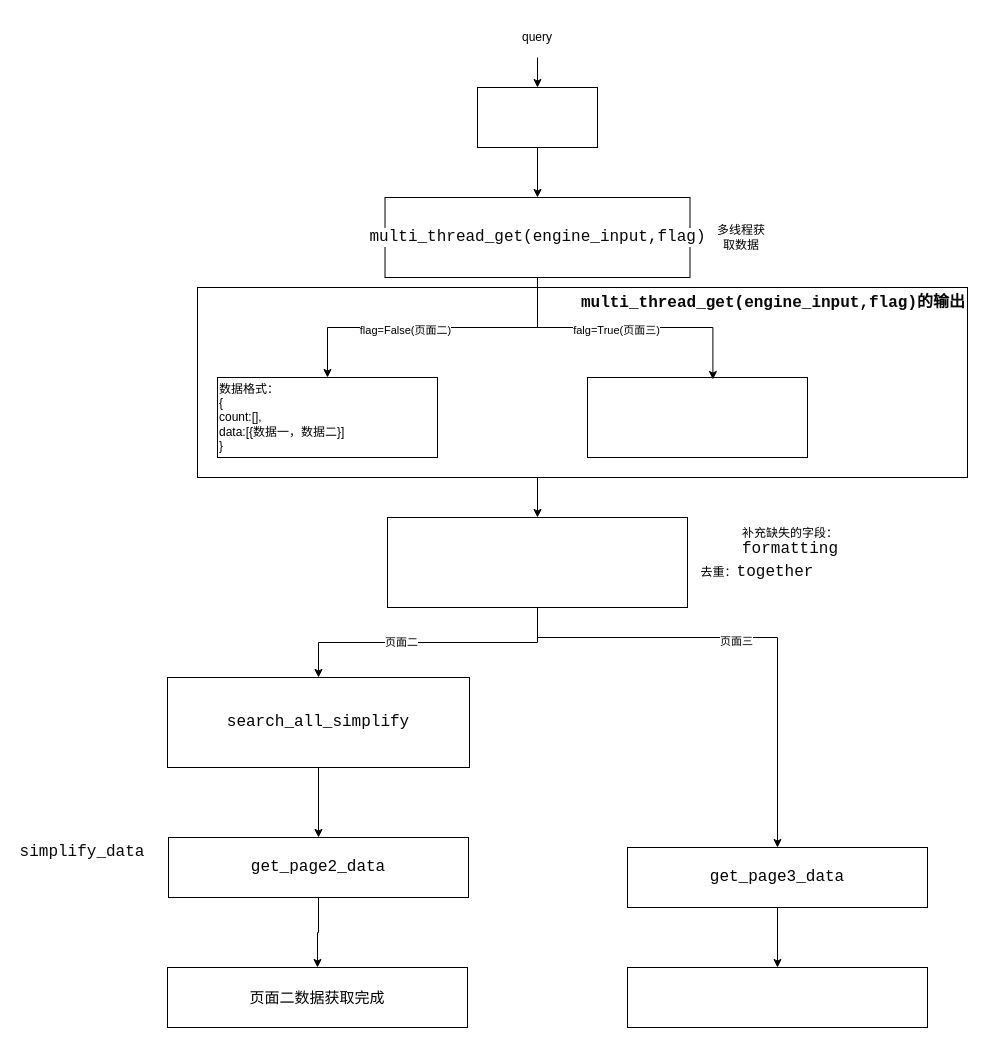
This 985x1045 diagram has some shape labels left out. The shapes that lost their labels are listed below. From the top down, each one's centre as x and y in pixels, then its label:
point 537,117: start_search
point 697,417: 数据格式： { data:[{数据一，数据二}] }
point 537,562: search_all_detail (query)
point 777,997: 页面三数据获取完成
